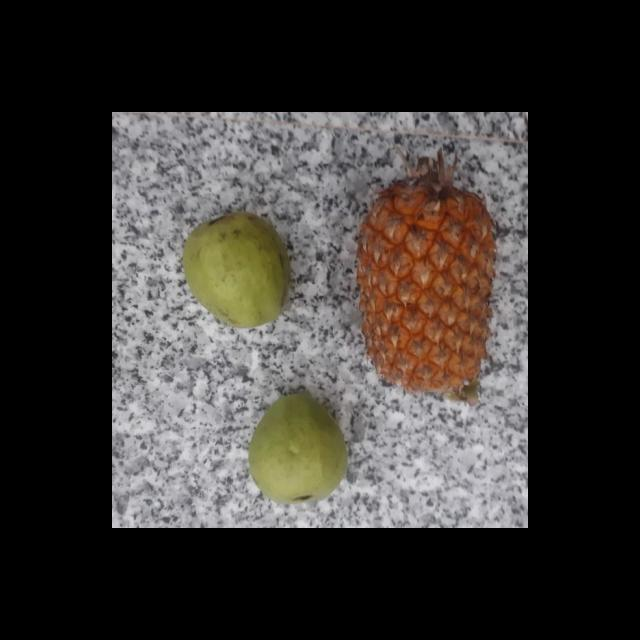guava: (184, 212, 298, 329), (246, 397, 352, 502)
pineapple: (359, 165, 496, 408)
